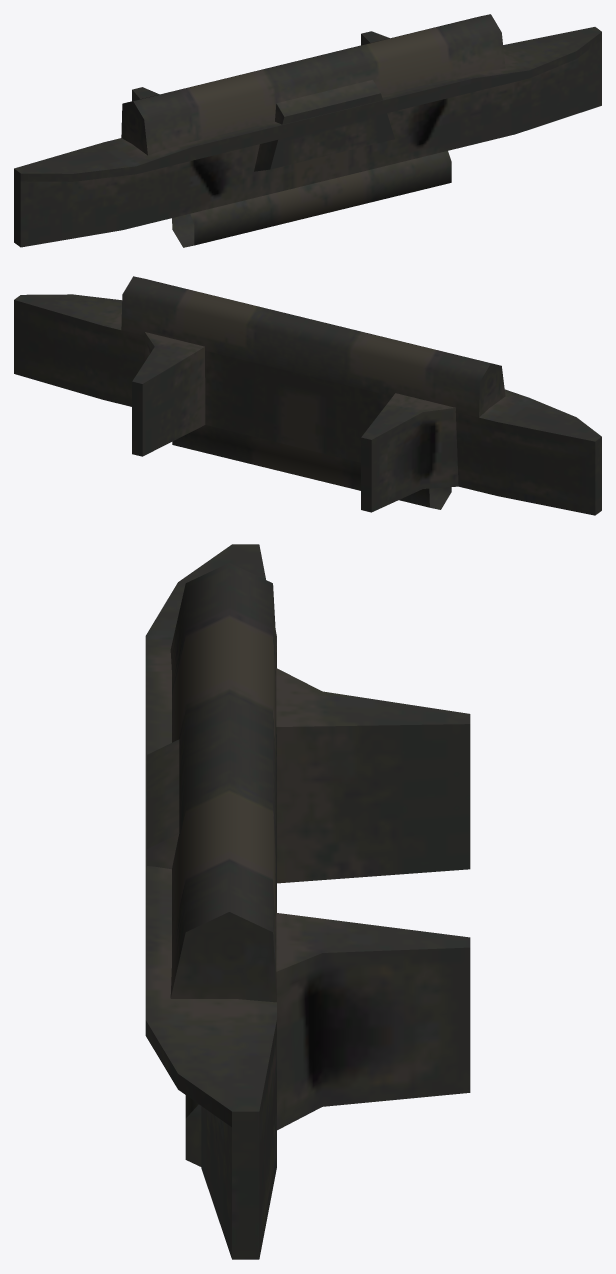
The picture shows the model from 3 angles, top to bottom: view 1: azimuth 30°, elevation 25°; view 2: azimuth 150°, elevation 25°; view 3: azimuth 270°, elevation 25°; orthographic projection. The views are drawn at different scales.
Parts seen in each view (by area): view 1: set_0_group_0; view 2: set_0_group_0; view 3: set_0_group_0.
Boxes of the visible parts, x1,y1,x2,y2 form: set_0_group_0: (14, 14, 601, 247); set_0_group_0: (14, 276, 601, 515); set_0_group_0: (145, 544, 470, 1259).
Bounding box in the file's own units: 0.5231 × 0.1365 × 0.1266.
Materials: 1 (1 with a texture image).
